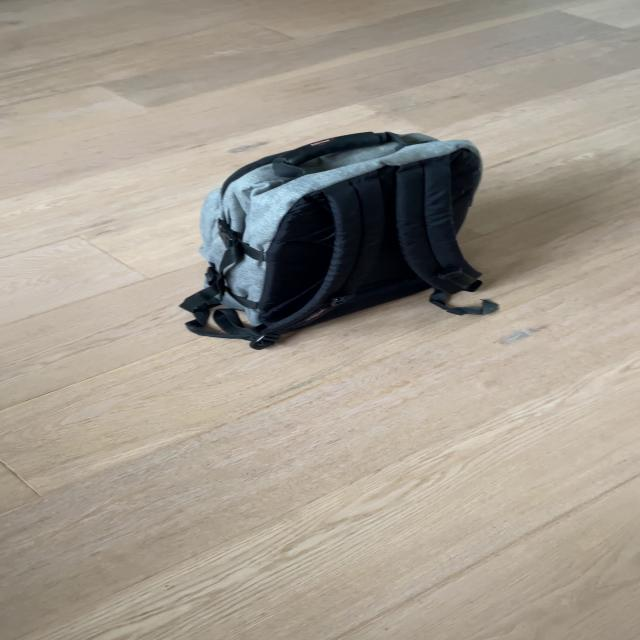backpack: (170, 120, 498, 352)
